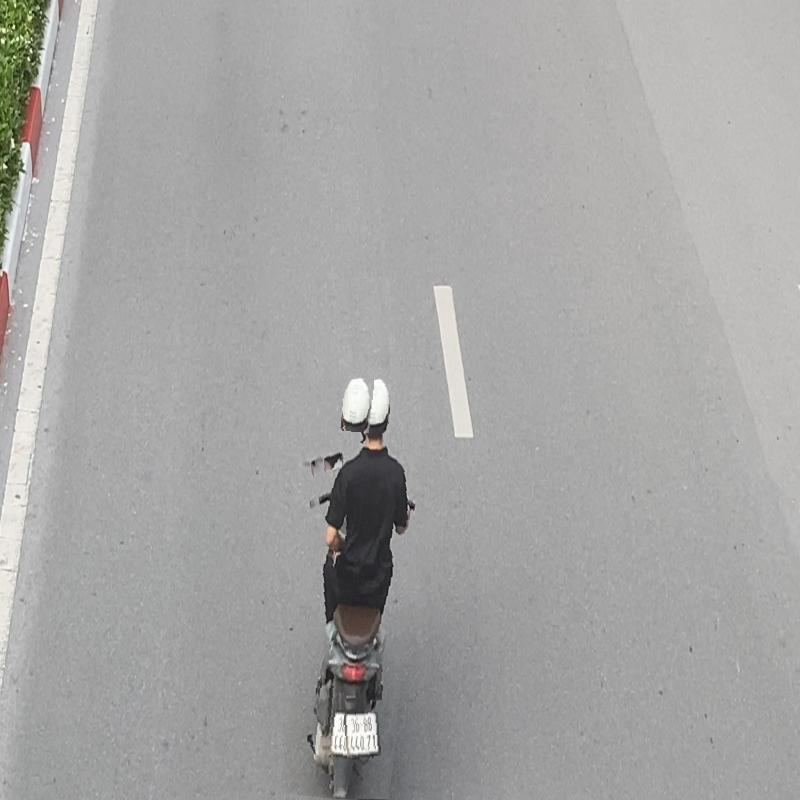helmet: (342, 374, 374, 432)
licenseplate: (346, 713, 380, 758)
motorcyclist: (291, 366, 422, 800)
